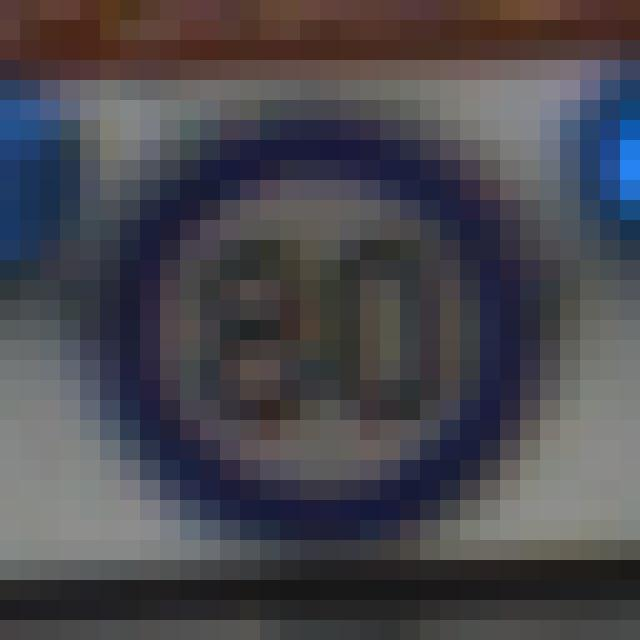SPEED-LIMIT-80: (133, 128, 525, 538)
